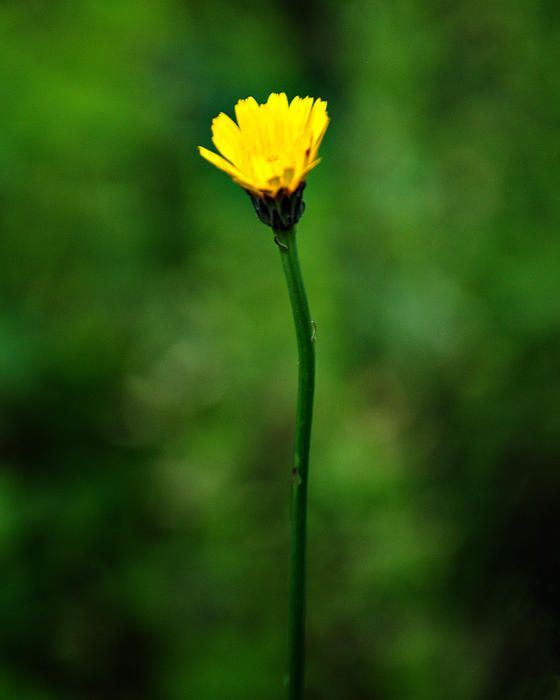dandelion: (185, 106, 343, 206)
